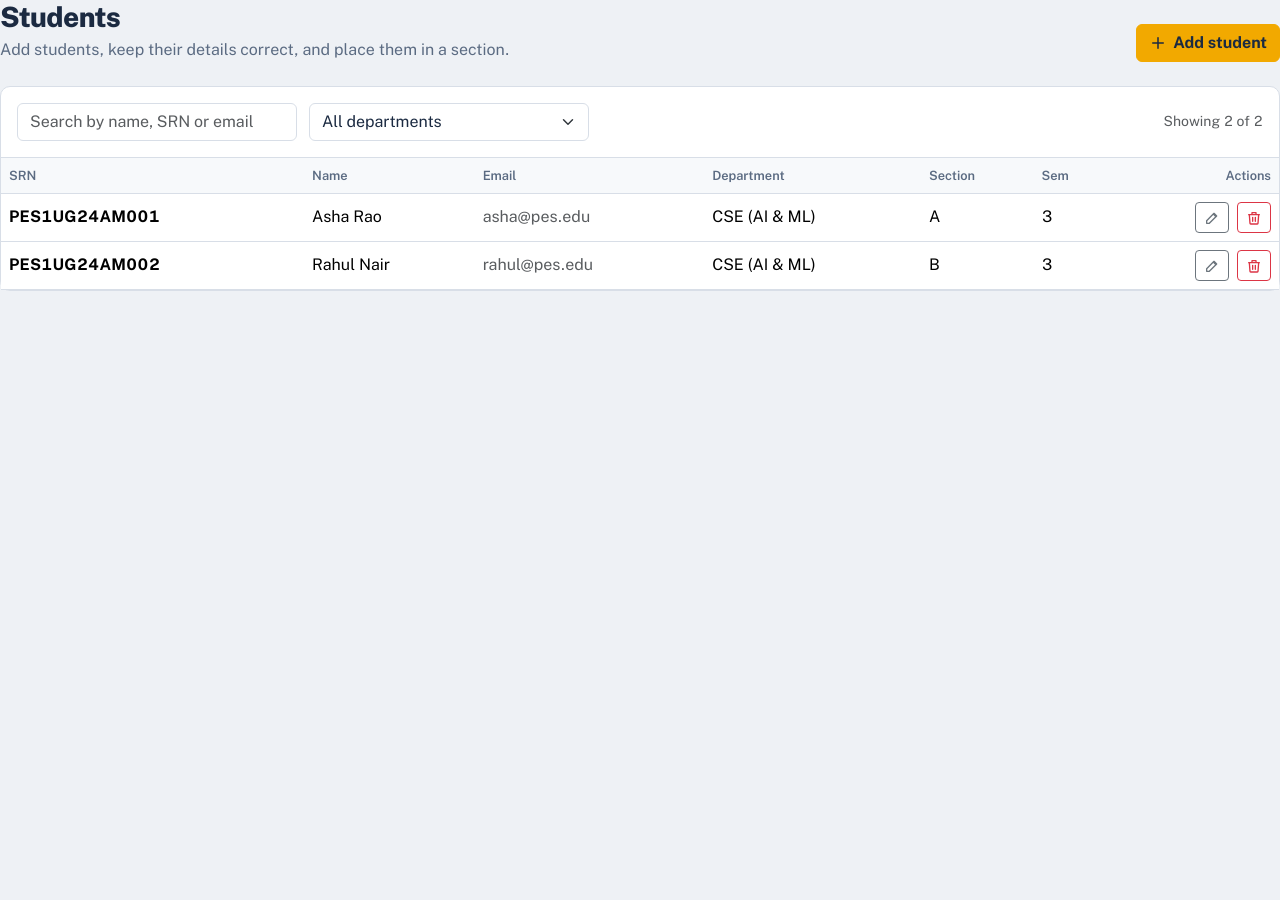
Test: Students page (F-005, F-006, TC-STU-02/03/04) › deletes a student after confirmation
Click the button named "Delete Rahul Nair" at (1254, 265), box [1237,250,1271,281]
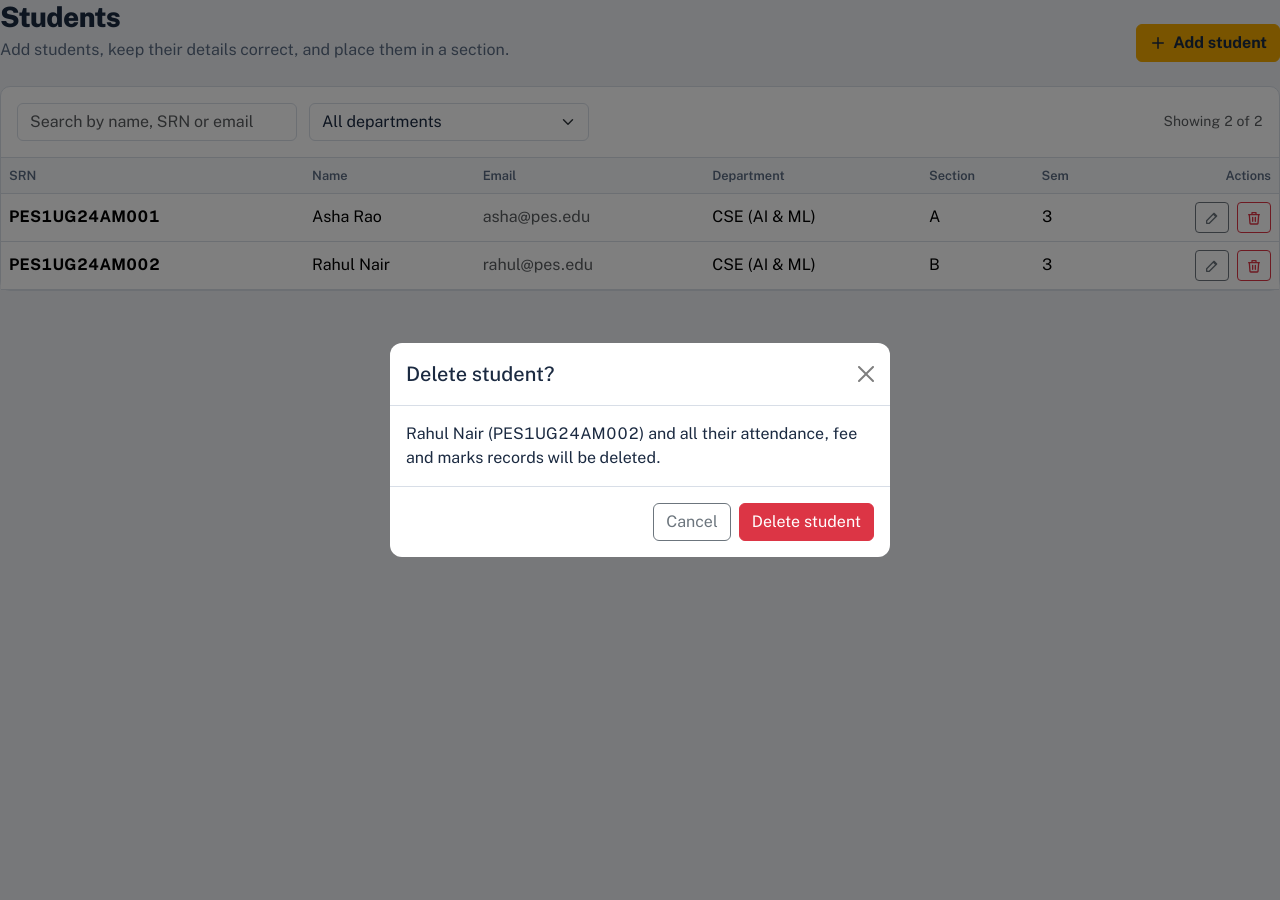
Click the button "Delete student" at (806, 522), box [739,503,874,541]
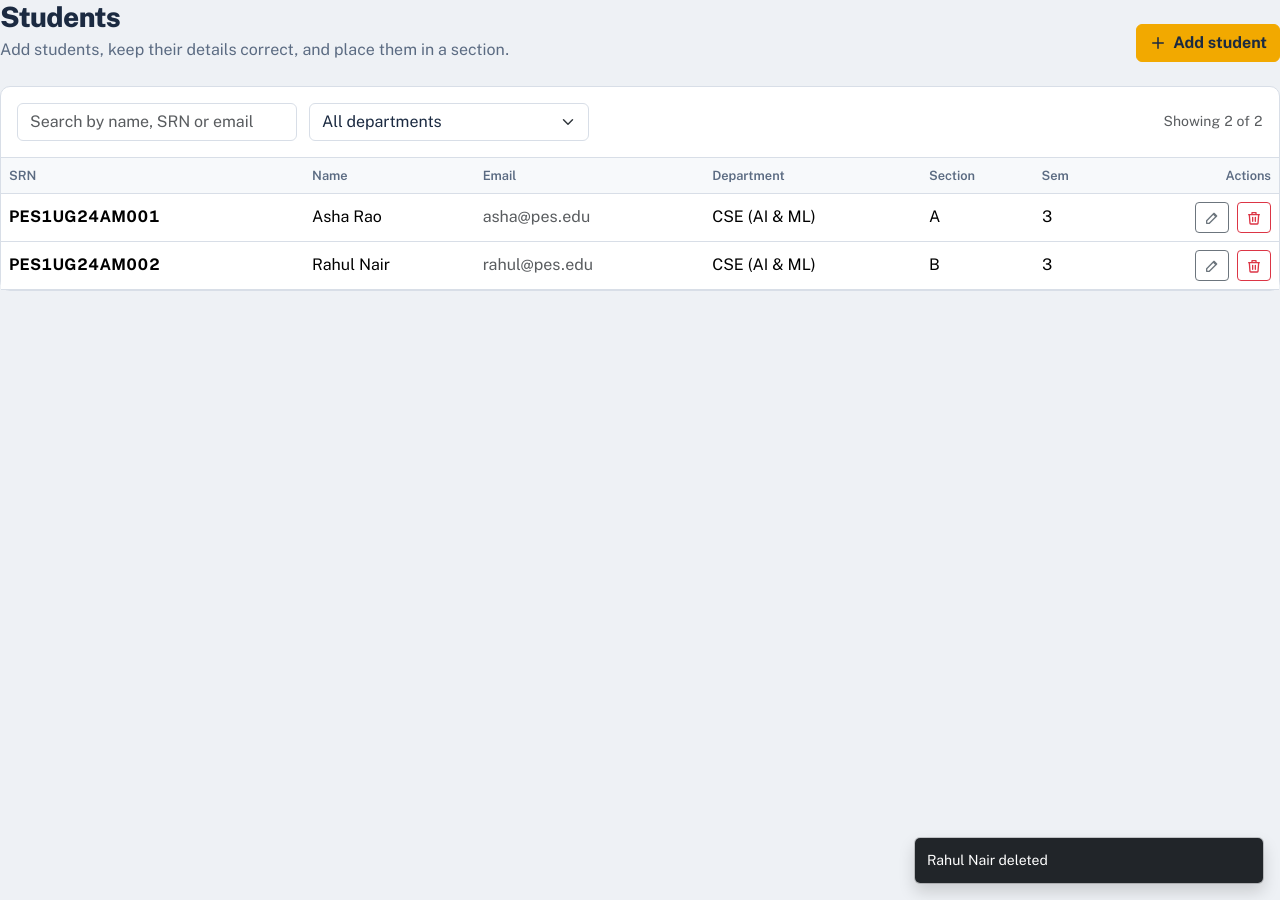
Now the text "Rahul Nair deleted" is shown, box [927,852,1048,868]
